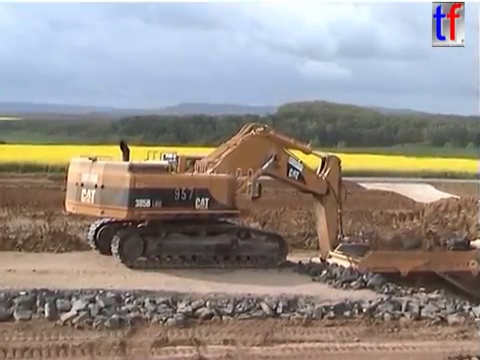excavator: (61, 120, 374, 300)
truck: (322, 234, 480, 328)
